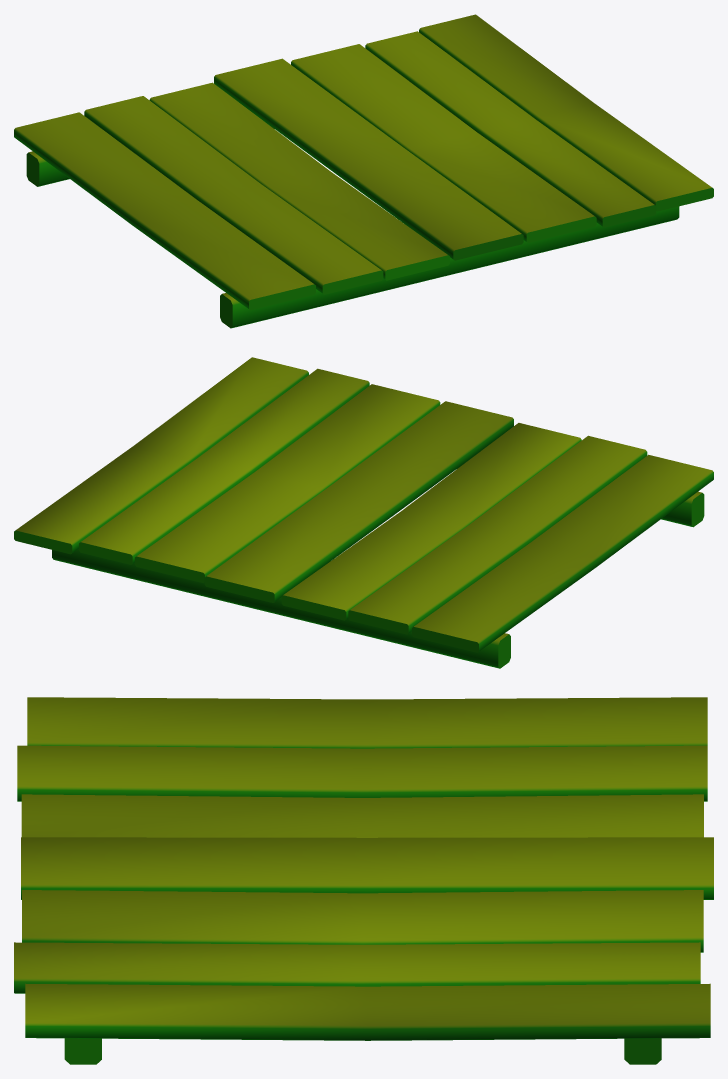
Rendered from timber_deck_2m.glb.
The picture shows the model from 3 angles, top to bottom: view 1: azimuth 30°, elevation 25°; view 2: azimuth 150°, elevation 25°; view 3: azimuth 270°, elevation 25°; orthographic projection. The views are drawn at different scales.
Visible parts, largest first — view 1: timber_deck_2m; view 2: timber_deck_2m; view 3: timber_deck_2m.
Boxes of the visible parts, x1,y1,x2,y2 form: timber_deck_2m: (14,14,713,328); timber_deck_2m: (14,357,713,668); timber_deck_2m: (14,697,713,1064).
Size of what is drawn, in the model's own units: 2.09 by 0.1723 by 1.88.
